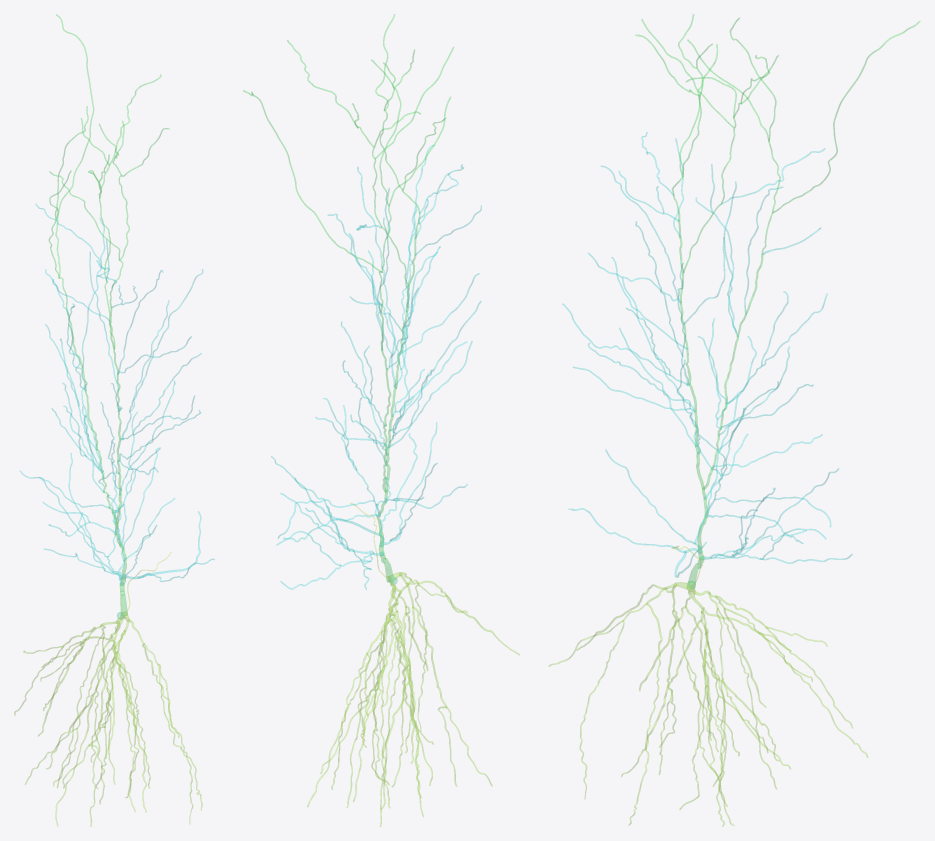
Rendered from ca1-pyramidal.glb.
3 views of the same model, side by side, from view 1: azimuth 30°, elevation 25°; view 2: azimuth 150°, elevation 25°; view 3: azimuth 270°, elevation 25° (orthographic). The views are drawn at different scales.
Parts seen in each view (by area): view 1: CA1[0].apical_dendrite_27_0, CA1[0].dendrite_34_0, CA1[0].user5_6_0; view 2: CA1[0].apical_dendrite_27_0, CA1[0].dendrite_34_0, CA1[0].user5_6_0; view 3: CA1[0].apical_dendrite_27_0, CA1[0].dendrite_34_0, CA1[0].user5_6_0.
Boxes of the visible parts, x1,y1,x2,y2 form: CA1[0].apical_dendrite_27_0: [20, 204, 214, 585]; CA1[0].dendrite_34_0: [14, 612, 202, 826]; CA1[0].user5_6_0: [49, 14, 168, 615]; CA1[0].apical_dendrite_27_0: [271, 145, 481, 589]; CA1[0].dendrite_34_0: [307, 572, 519, 826]; CA1[0].user5_6_0: [243, 14, 453, 581]; CA1[0].apical_dendrite_27_0: [562, 132, 852, 577]; CA1[0].dendrite_34_0: [549, 582, 867, 826]; CA1[0].user5_6_0: [635, 14, 920, 588].
Size of the model in its own units: 1.33 by 5.63 by 2.34.
